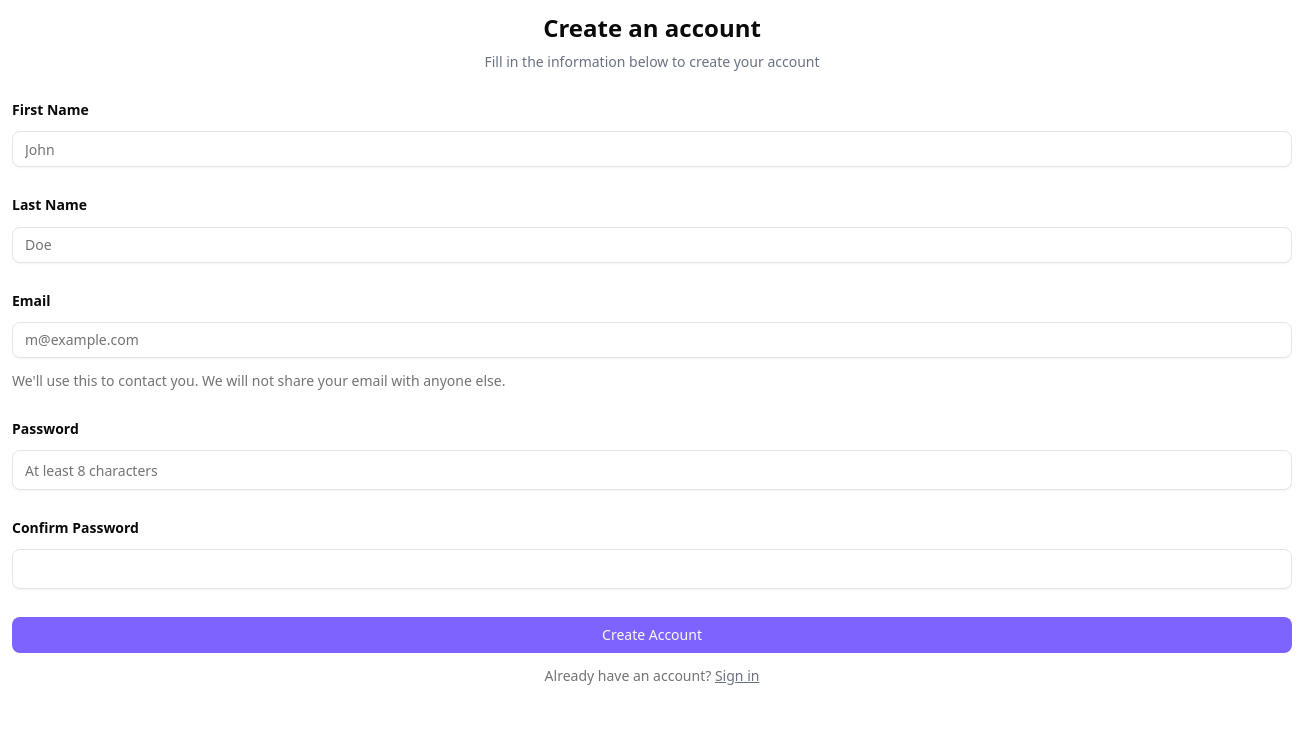
Test: SignupForm › Form Validation › shows live validation when confirm password does not match
In the password field labelled "Password": (652, 470) [12,450,1292,490], type "password123"
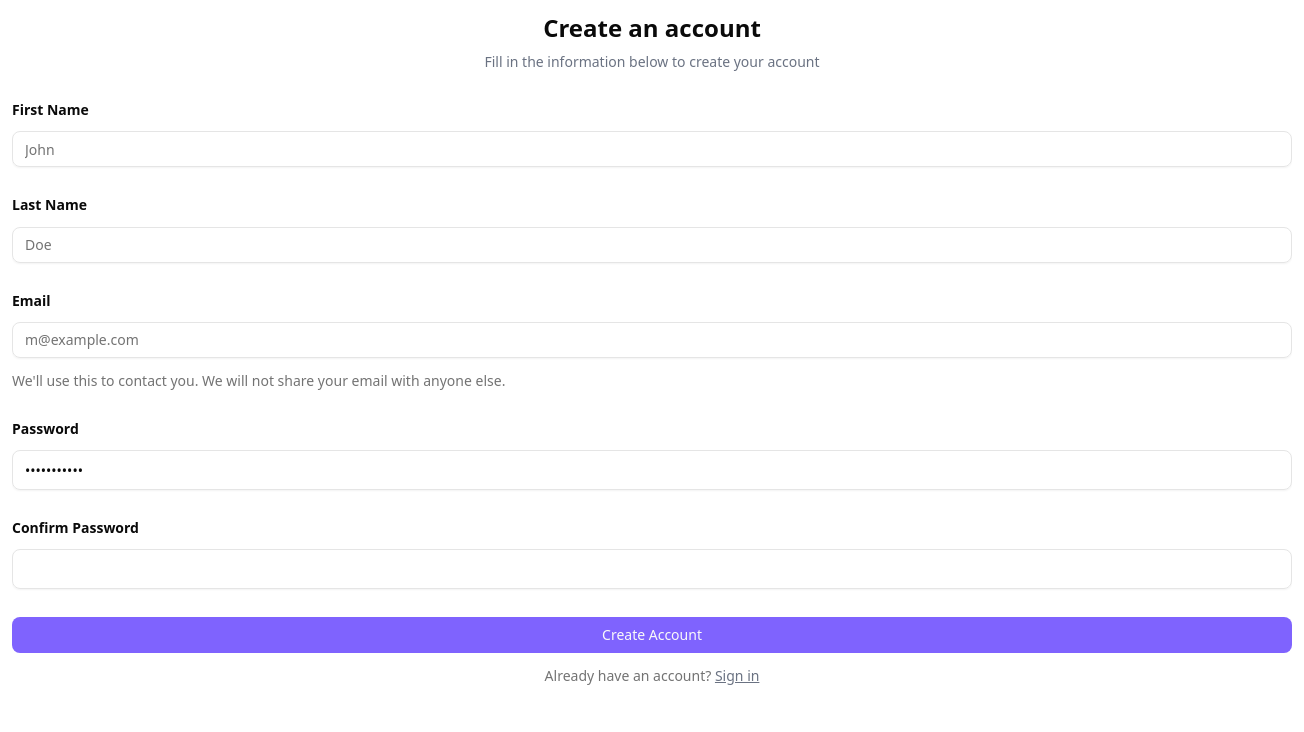
In the password field labelled "Confirm Password": (652, 569) [12,549,1292,589], type "different"
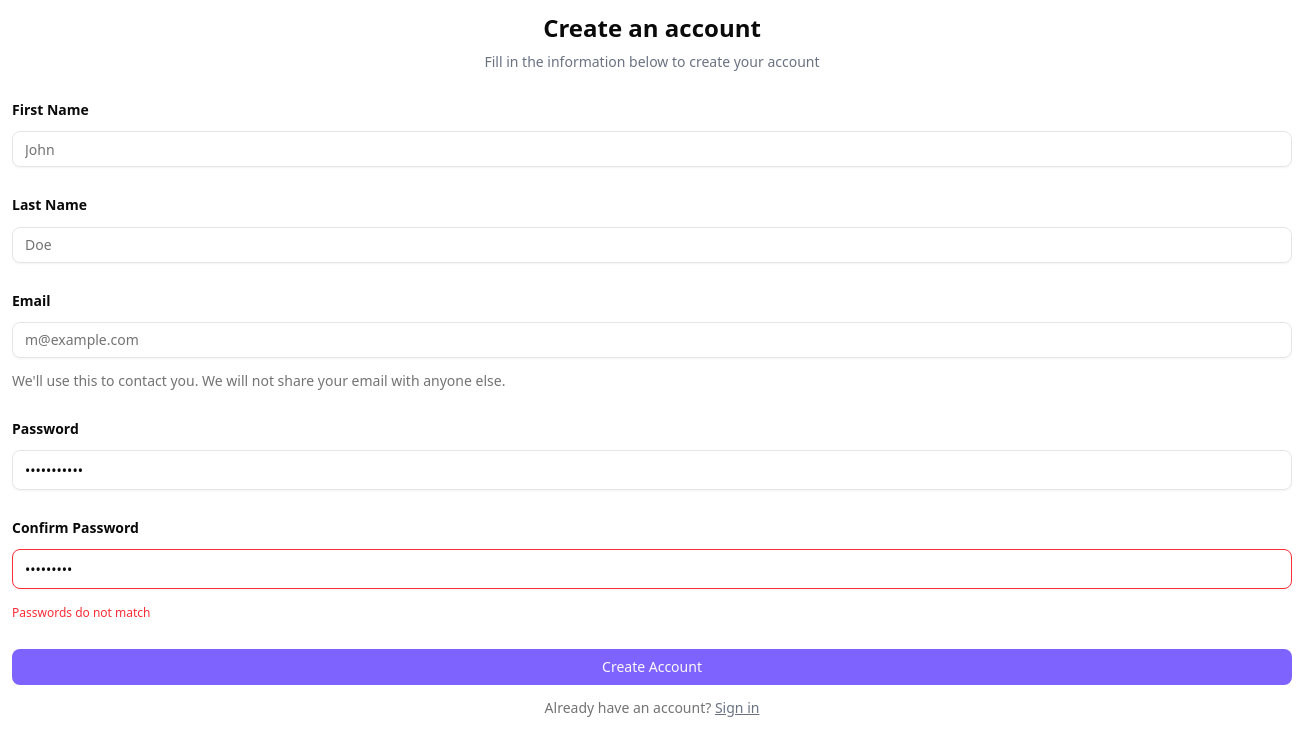
Check: the text "Passwords do not match" is shown, box [12,604,150,621]
